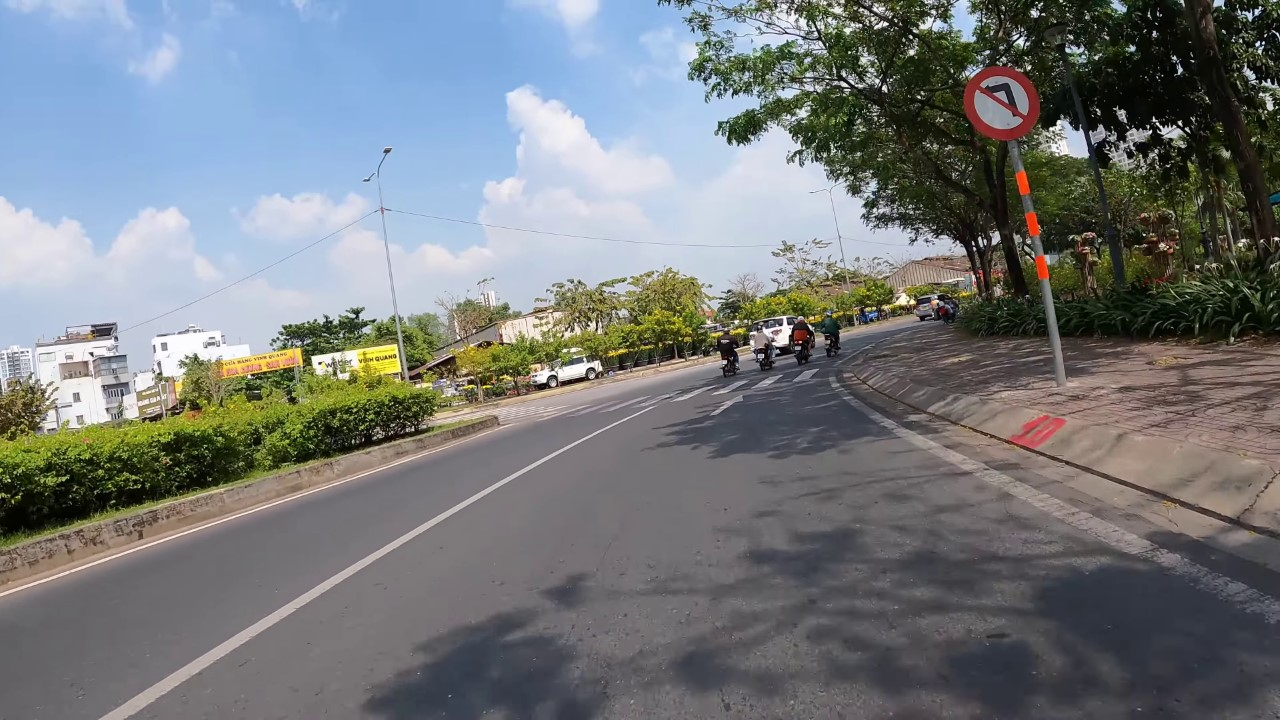cam_re_trai: (960, 60, 1039, 145)
